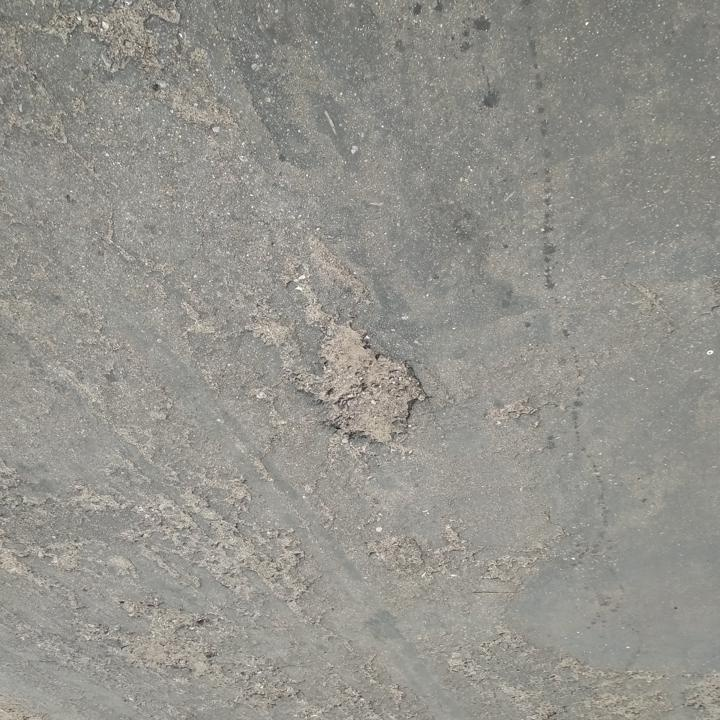pothole: (288, 321, 421, 447), (123, 598, 214, 679)
